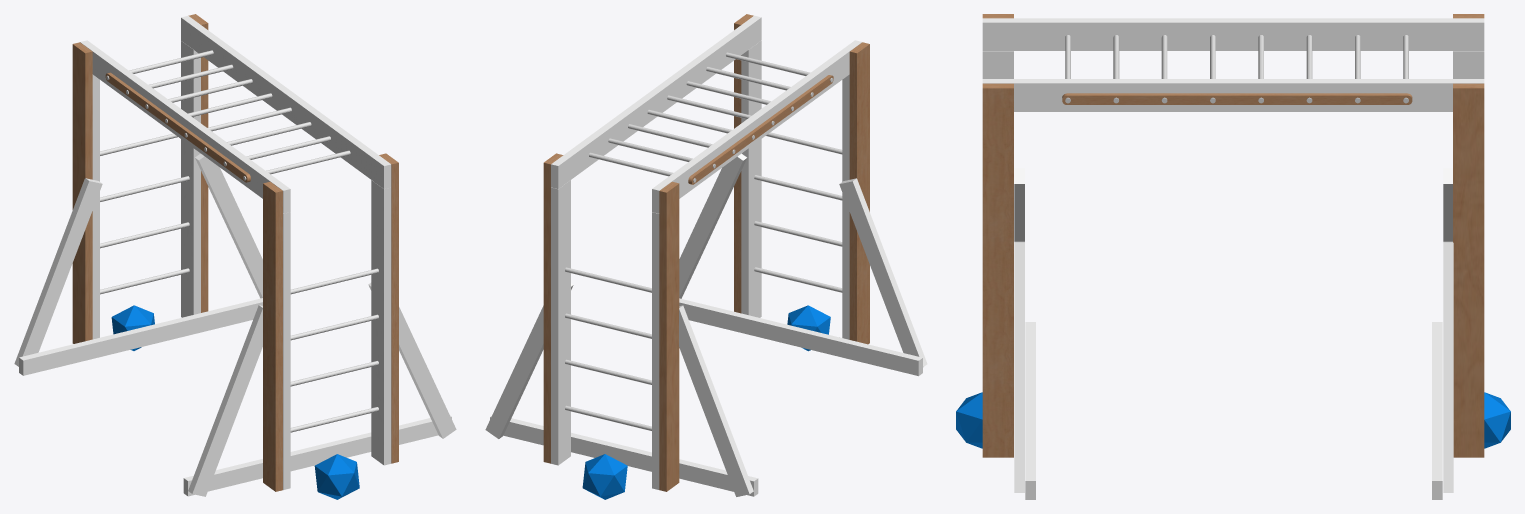
File: Monkey bar climber.glb
The picture shows the model from 3 angles, left to right: view 1: azimuth 30°, elevation 25°; view 2: azimuth 150°, elevation 25°; view 3: azimuth 270°, elevation 25°; orthographic projection. The views are drawn at different scales.
Visible parts, largest first — view 1: Cube.128, Joint.004, Joint.005; view 2: Cube.128, Joint.005, Joint.004; view 3: Cube.128, Joint.004, Joint.005.
Part boxes in pixels (x1,y1,x2,y2): Cube.128: (14,14,456,496); Joint.004: (314,454,359,499); Joint.005: (111,305,154,350); Cube.128: (485,14,927,496); Joint.005: (582,454,627,499); Joint.004: (787,305,830,351); Cube.128: (982,14,1484,499); Joint.004: (956,392,982,448); Joint.005: (1484,392,1510,448).
Size of the model in its own units: 1.83 by 2.13 by 2.7.
4 materials, 1 textured.
